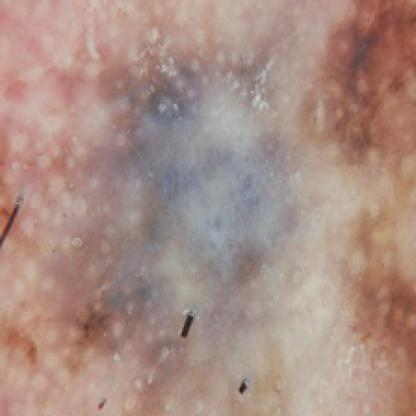malignant: (32, 43, 406, 397)
